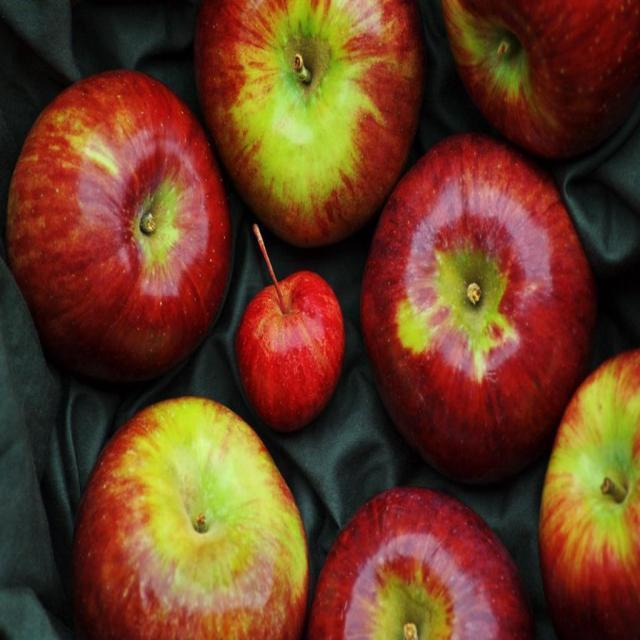Apple: (359, 130, 597, 484), (5, 68, 233, 383), (70, 395, 310, 639), (193, 0, 425, 248), (307, 486, 532, 638), (439, 0, 639, 159), (538, 348, 640, 638), (234, 223, 345, 432)
